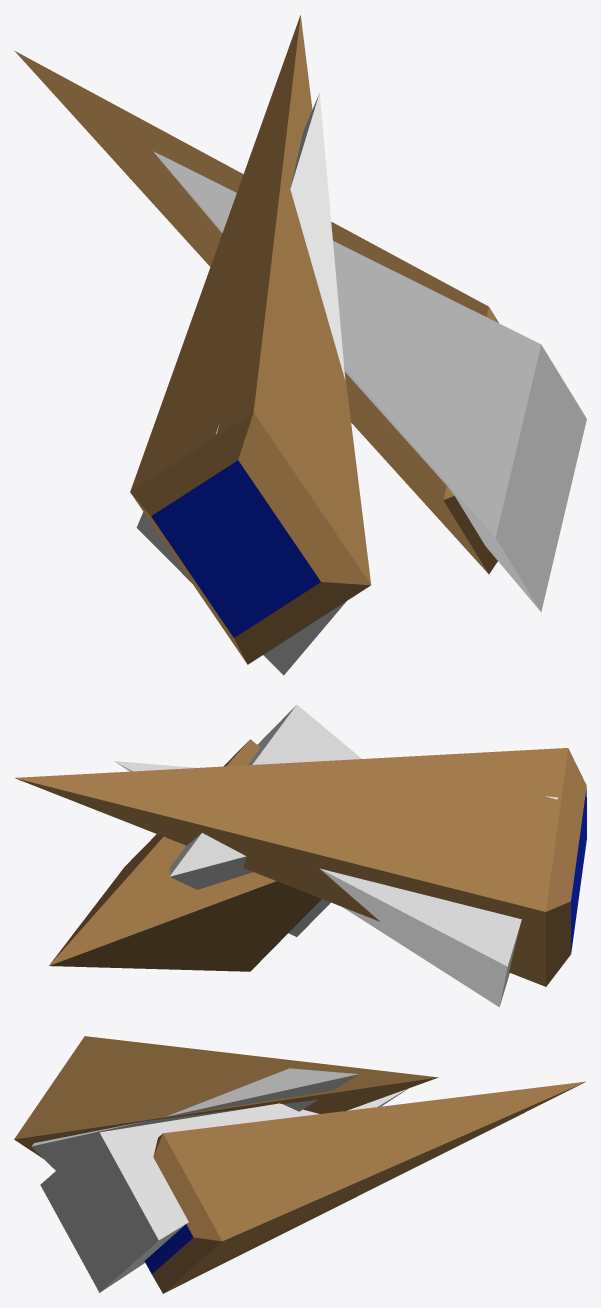
Rendered from studJewelBronze.glb.
The picture shows the model from 3 angles, top to bottom: view 1: azimuth 30°, elevation 25°; view 2: azimuth 150°, elevation 25°; view 3: azimuth 270°, elevation 25°; orthographic projection. The views are drawn at different scales.
Parts seen in each view (by area): view 1: stud jeweled Bronze, stud plain Silver; view 2: stud jeweled Bronze, stud plain Silver; view 3: stud jeweled Bronze, stud plain Silver.
Boxes of the visible parts, box(x1,y1,x2,y2) form: stud jeweled Bronze: box(14, 15, 498, 664); stud plain Silver: box(136, 93, 586, 675); stud jeweled Bronze: box(15, 739, 586, 986); stud plain Silver: box(114, 705, 558, 1007); stud jeweled Bronze: box(14, 1036, 585, 1293); stud plain Silver: box(31, 1068, 408, 1292).
Bounding box in the file's own units: 0.0236 × 0.0197 × 0.0435.
